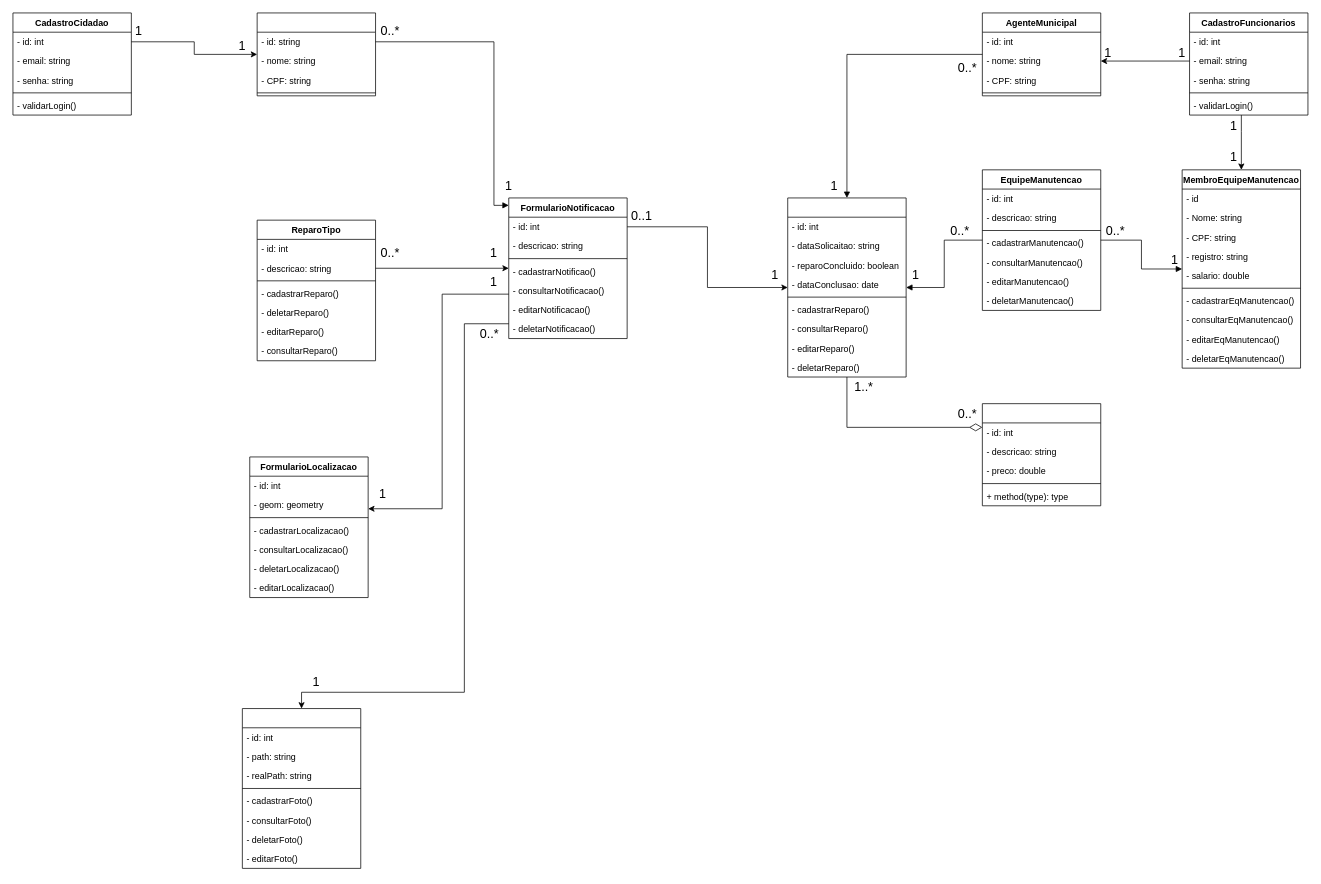
The diagram is 1321 pixels wide and 884 high, and some of its shapes have lost their labels. Each missing label, with the box of its shape:
CadastroFoto: (242, 708, 361, 868)
Cidadao: (256, 12, 376, 96)
itensReparo: (982, 403, 1101, 506)
SolicitacaoReparo: (787, 197, 906, 377)
